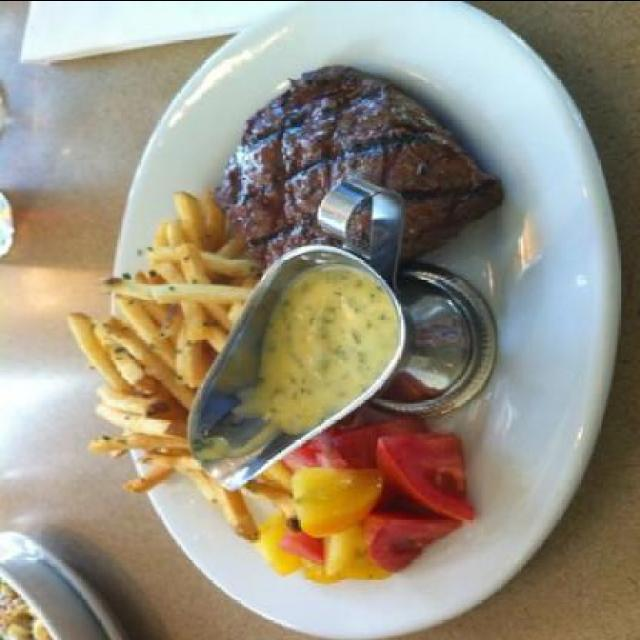French fries: (90, 184, 232, 466)
Steak: (218, 80, 496, 262)
